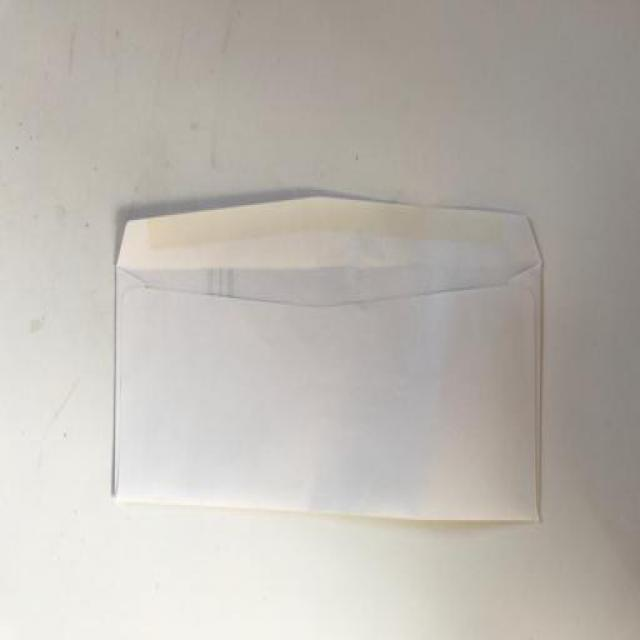paper: (95, 191, 552, 543)
